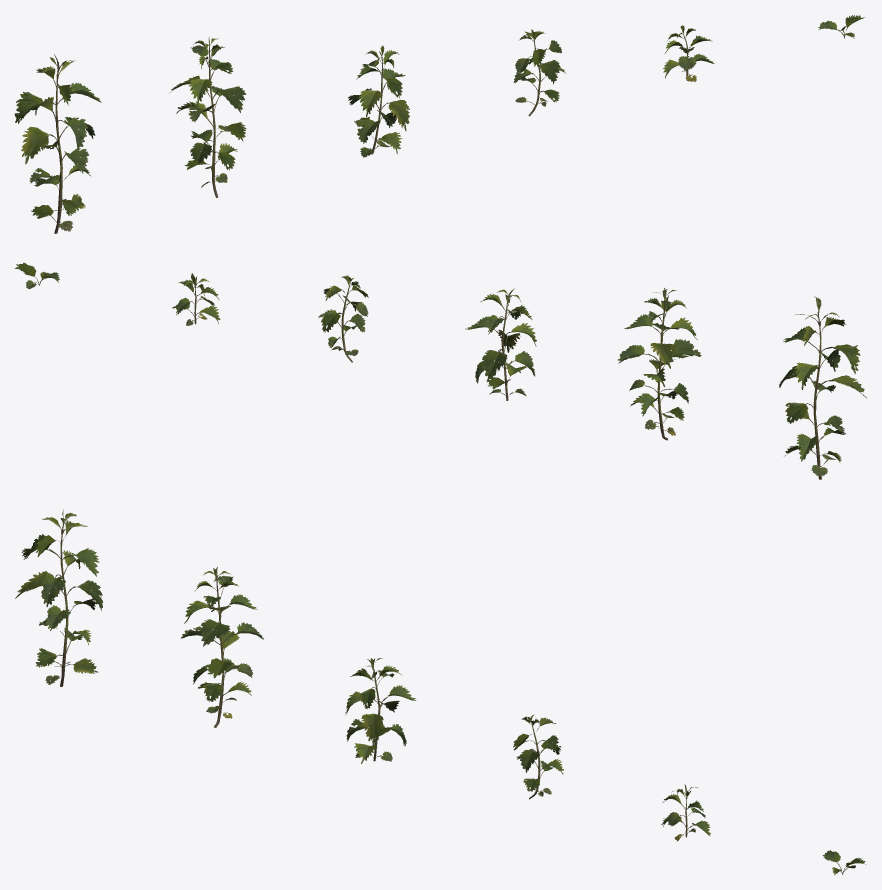
The model's file is nettle_plant.glb.
The picture shows the model from 3 angles, top to bottom: view 1: azimuth 30°, elevation 25°; view 2: azimuth 150°, elevation 25°; view 3: azimuth 330°, elevation 25°; orthographic projection.
Parts seen in each view (by area): view 1: nettle_plant_medium_a_LOD0; view 2: nettle_plant_medium_a_LOD0; view 3: nettle_plant_medium_a_LOD0.
Part boxes in pixels (left/top/right/bottom): nettle_plant_medium_a_LOD0: left=14, top=15, right=864, bottom=233; nettle_plant_medium_a_LOD0: left=14, top=262, right=867, bottom=479; nettle_plant_medium_a_LOD0: left=15, top=509, right=865, bottom=875.
Size of the model in its own units: 1.08 by 0.2182 by 0.0946.
1 material, 1 textured.
